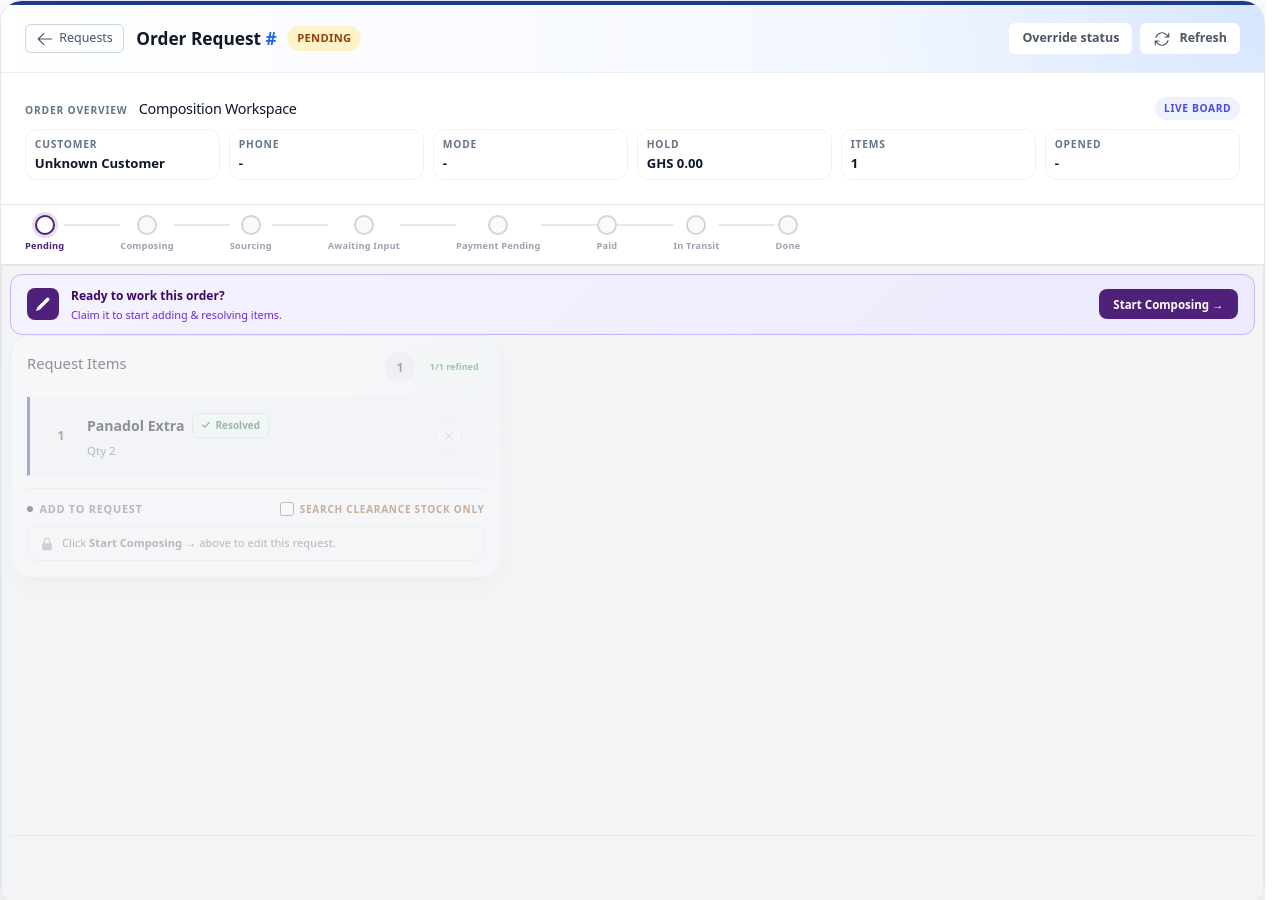
Test case: next step: starting work on a request › claims a pending request by moving it to composing
Click the button "Start Composing →" at (1168, 304), box [1099,289,1238,319]
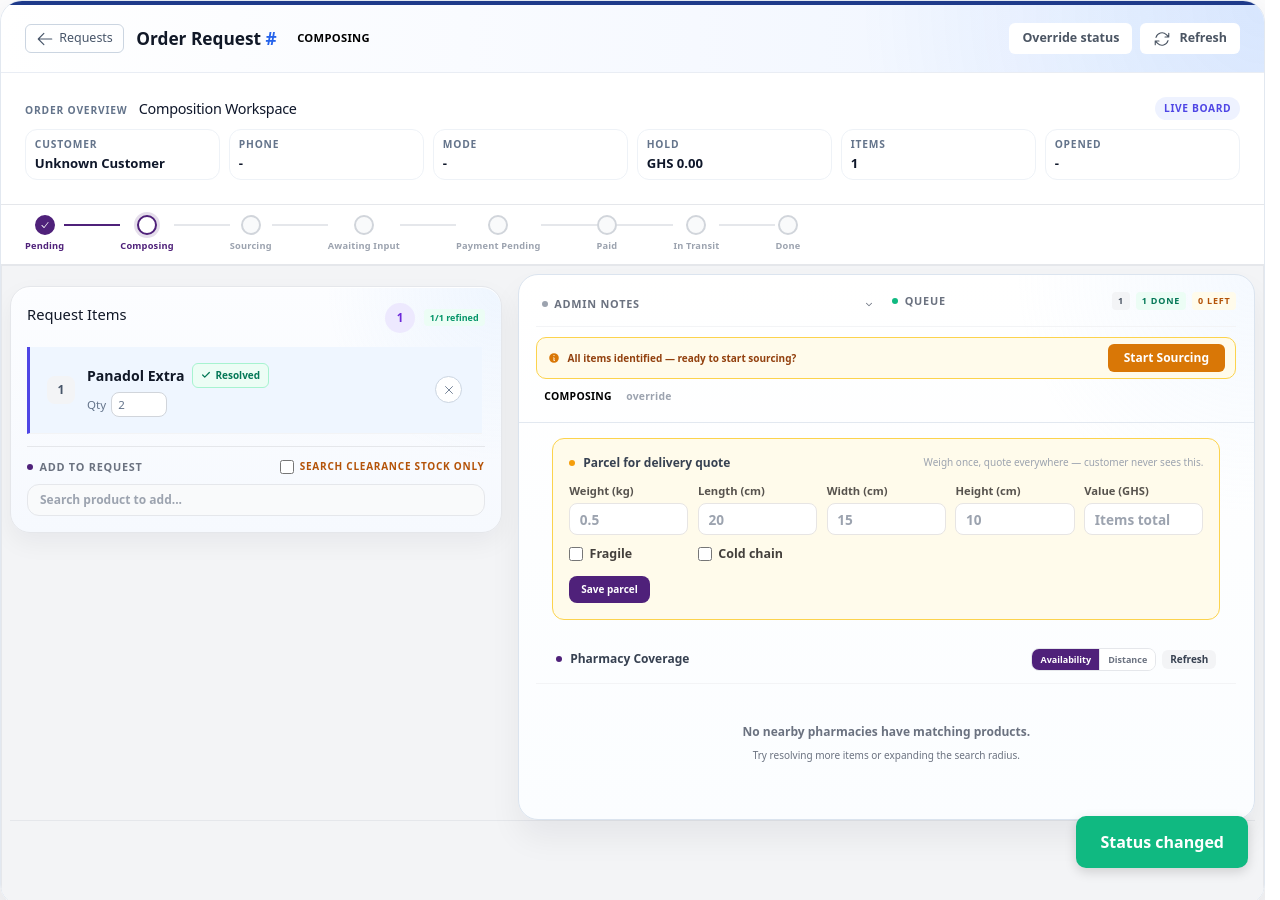
Now the text "Status changed" is shown, box [1076,816,1248,868]
